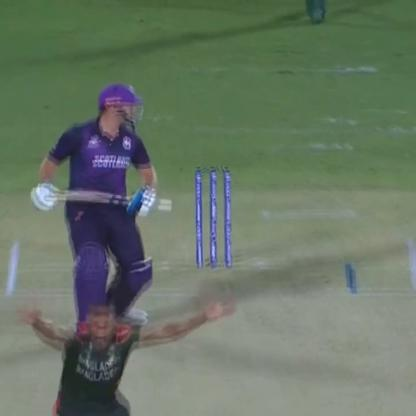bat: (36, 187, 172, 215)
pitch: (1, 252, 412, 414)
